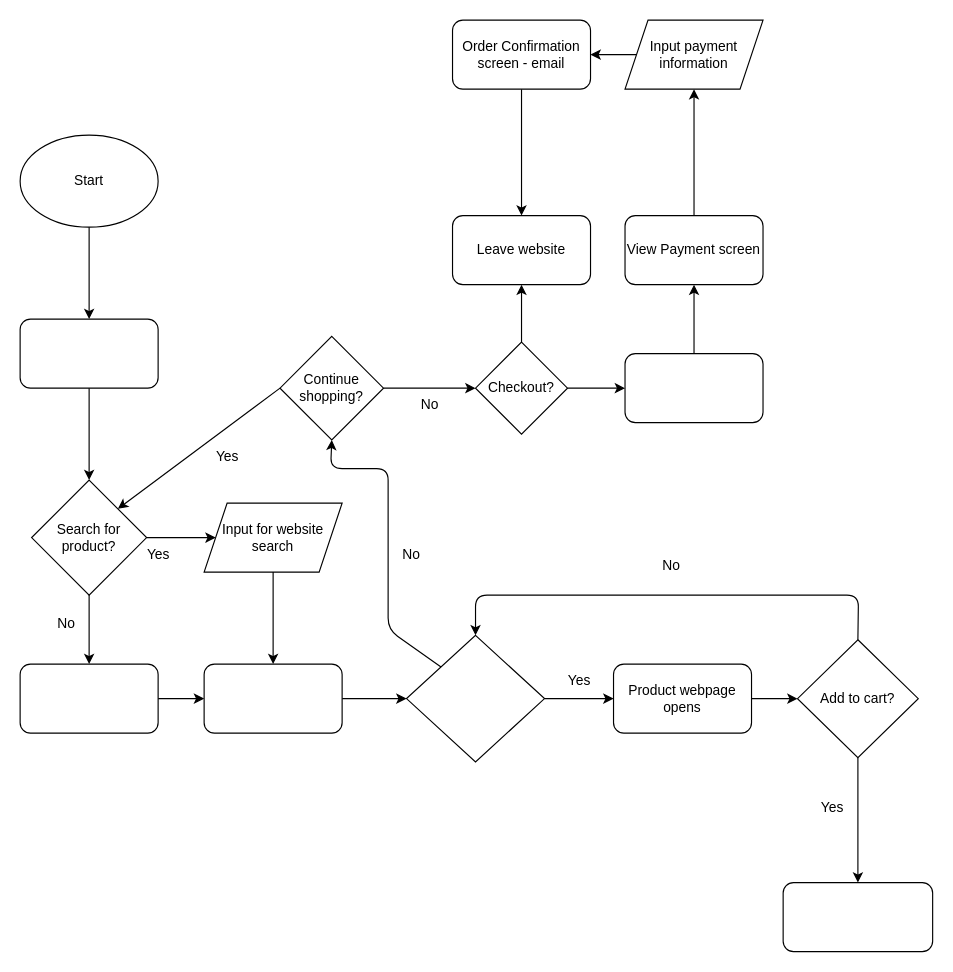
The diagram is 953 pixels wide and 972 high, and some of its shapes have lost their labels. The centre of each missing label's shape, as x and y in pixels:
"Added to cart notification" goes at point (857, 916).
"Browse current selection" goes at point (88, 698).
"Look over products" goes at point (272, 698).
"Review specific product?" goes at point (475, 698).
"User arrives at website" goes at point (88, 353).
"View Cart screem" goes at point (693, 387).
